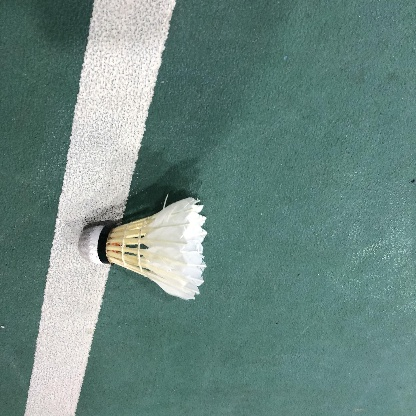ball_single: (78, 197, 207, 300)
